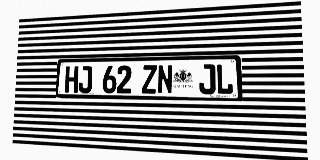2: (117, 65, 131, 93)
6: (102, 66, 117, 93)
H: (65, 66, 79, 93)
J: (199, 64, 216, 94), (78, 66, 92, 93)
L: (216, 64, 233, 95)
N: (157, 65, 173, 94)
Z: (142, 65, 157, 94)
